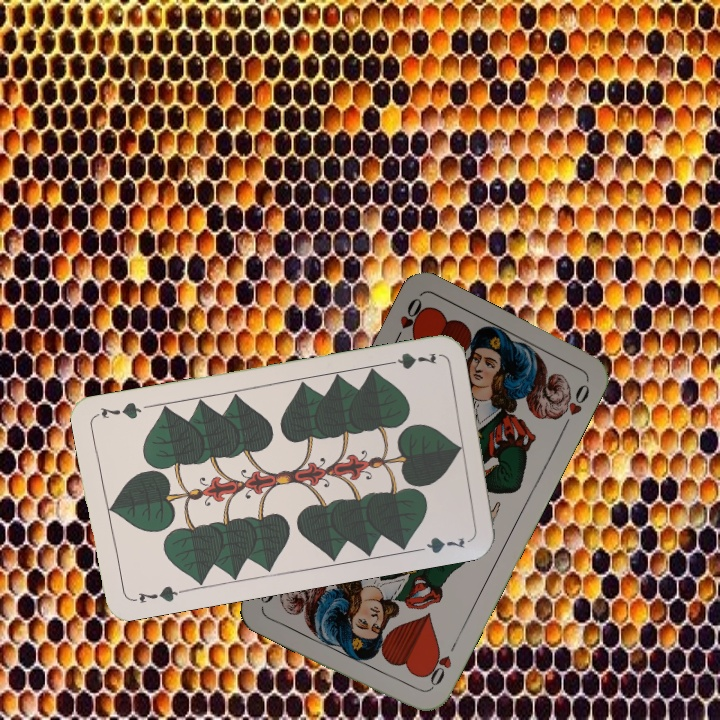G7: (380, 348, 439, 372), (127, 582, 186, 606)
HO: (389, 293, 429, 348), (420, 638, 459, 693)
